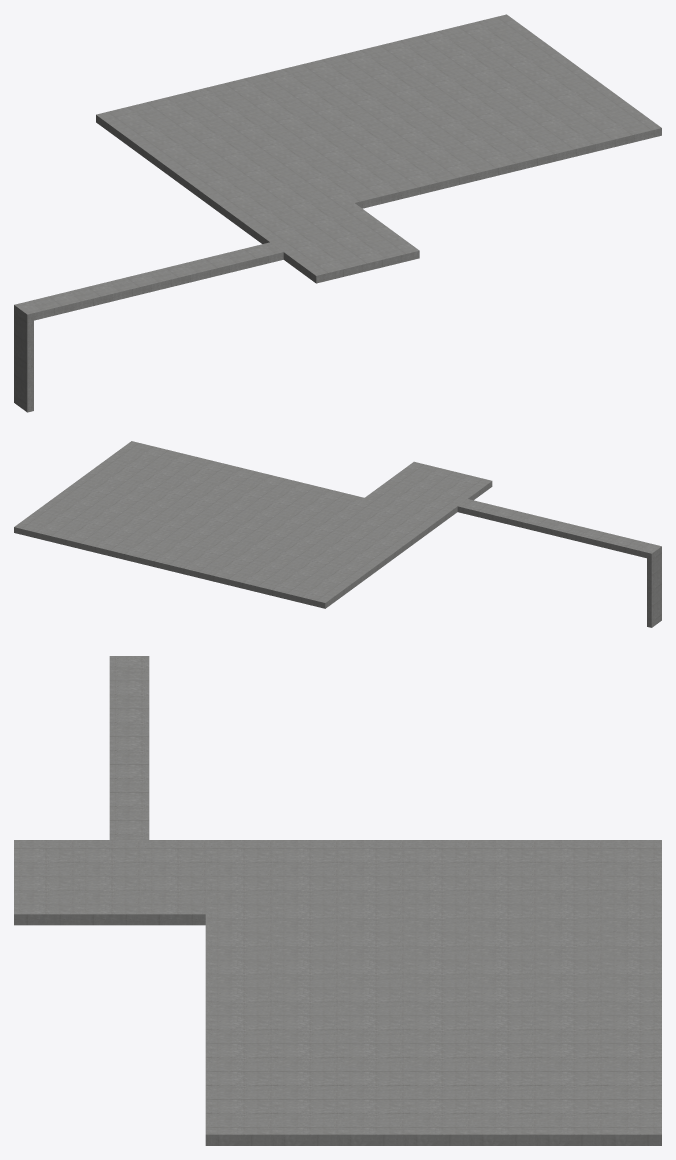
Rendered from Celiling.fbx.
3 renders of one model, top to bottom at view 1: azimuth 30°, elevation 25°; view 2: azimuth 150°, elevation 25°; view 3: azimuth 270°, elevation 25°, orthographic. The views are drawn at different scales.
Visible parts, largest first — view 1: Ceiling; view 2: Ceiling; view 3: Ceiling.
Part boxes in pixels (x1=…): Ceiling: x1=14, y1=14, x2=661, y2=412; Ceiling: x1=14, y1=441, x2=661, y2=627; Ceiling: x1=14, y1=656, x2=661, y2=1145.
Bounding box in the file's own units: 10050 × 1410 × 5750.
